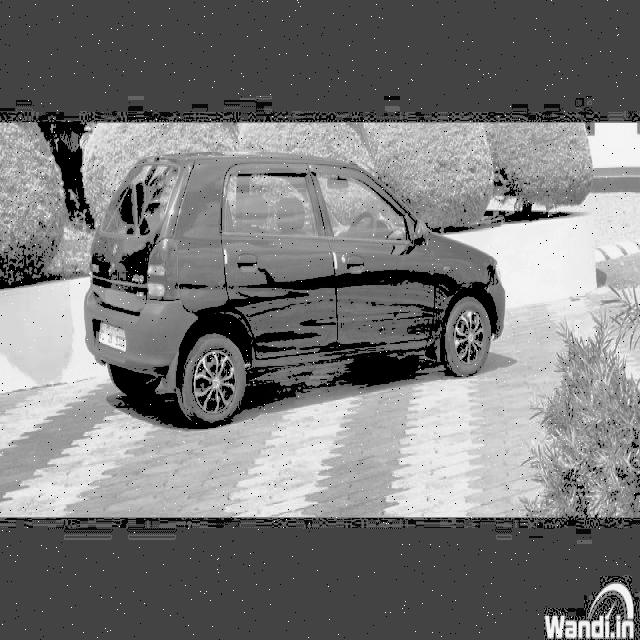Car: (84, 154, 512, 425)
